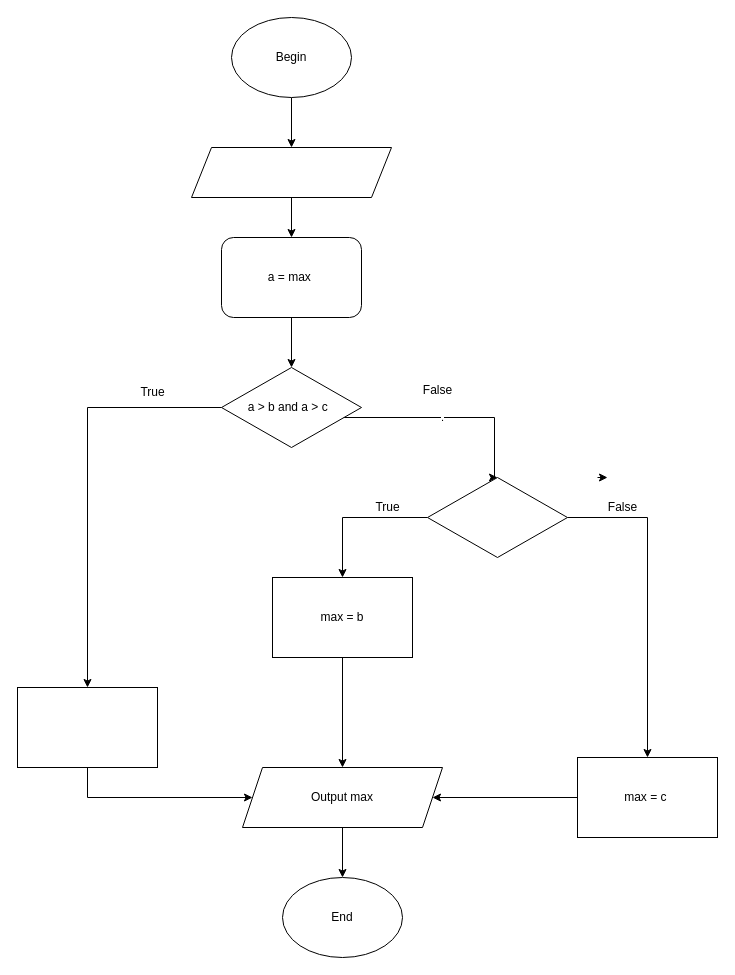
Image size: 735x975. Some labels were removed from this diagram. The centre of each missing label's shape, as x and y in pixels:
b > c: point (497, 517)
Input a, b, c: point (291, 172)
max = a: point (87, 727)
